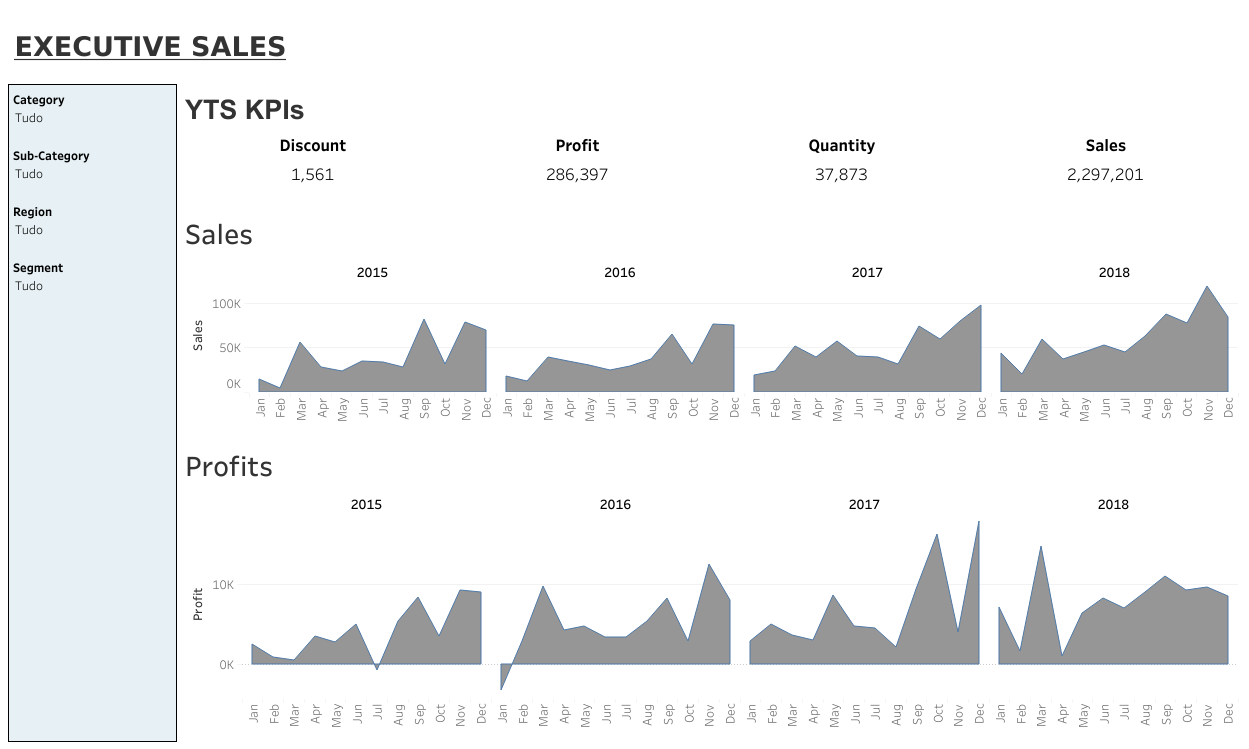

The page's visual inventory and layout, read from the dashboard file:
{"tool":"tableau","page":{"name":"Exec Dashboard","canvas":[1250,750],"ordinal":0},"visuals":[{"type":"title","box":[8,8,1234,76]},{"type":"worksheet","title":"YTS KPIs","mark":"Automatic","box":[177,84,1065,120]},{"type":"filter","title":"YTS KPIs","param":"[federated.0ymwoz7082p6jr1bn9t2m1qchtjr].[none:Category:nk]","box":[9,85,167,52]},{"type":"filter","title":"YTS KPIs","param":"[federated.0ymwoz7082p6jr1bn9t2m1qchtjr].[none:Sub-Category:nk]","box":[9,137,167,52]},{"type":"filter","title":"YTS KPIs","param":"[federated.0ymwoz7082p6jr1bn9t2m1qchtjr].[none:Region:nk]","box":[9,189,167,52]},{"type":"worksheet","title":"Sales","mark":"Area","rows":["Sales"],"cols":["Order Date","Order Date"],"box":[177,204,1065,232.5]},{"type":"filter","title":"YTS KPIs","param":"[federated.0ymwoz7082p6jr1bn9t2m1qchtjr].[none:Segment:nk]","box":[9,241,167,52]},{"type":"worksheet","title":"Profits","mark":"Area","rows":["Profit"],"cols":["Order Date","Order Date"],"box":[177,436.5,1065,305.5]}]}

Visuals, with their boxes in screenshot pixels (x1, y1, x2, y2), scaled from the page's 1250x750 canvas onto the 1249x749 screenshot:
title: x1=8 y1=8 x2=1241 y2=84
"YTS KPIs" worksheet: x1=177 y1=84 x2=1241 y2=204
"YTS KPIs" filter: x1=9 y1=85 x2=176 y2=137
"YTS KPIs" filter: x1=9 y1=137 x2=176 y2=189
"YTS KPIs" filter: x1=9 y1=189 x2=176 y2=241
"Sales" worksheet (Area marks): x1=177 y1=204 x2=1241 y2=436
"YTS KPIs" filter: x1=9 y1=241 x2=176 y2=293
"Profits" worksheet (Area marks): x1=177 y1=436 x2=1241 y2=741
